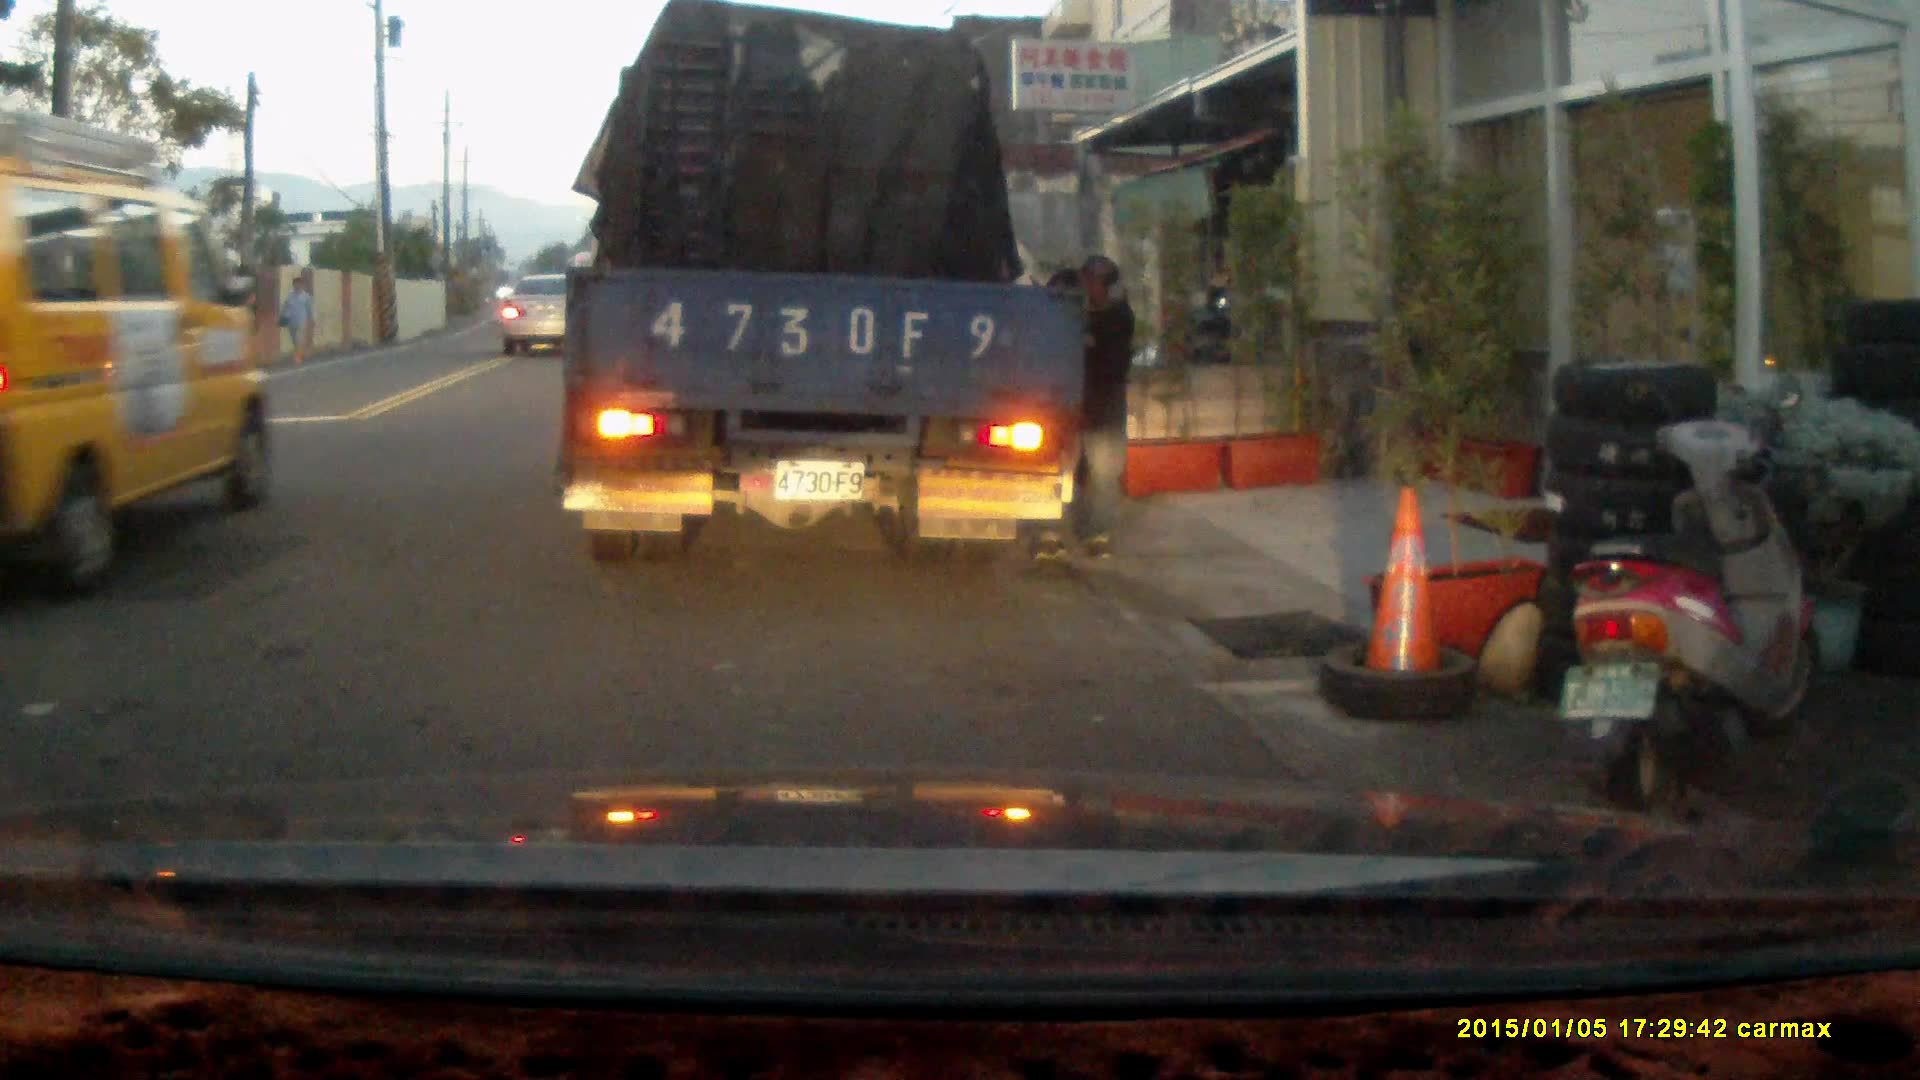pedestrian: (1014, 247, 1135, 562), (275, 274, 316, 369)
vehicle: (558, 25, 1073, 557), (1, 107, 278, 609), (505, 270, 586, 351)
